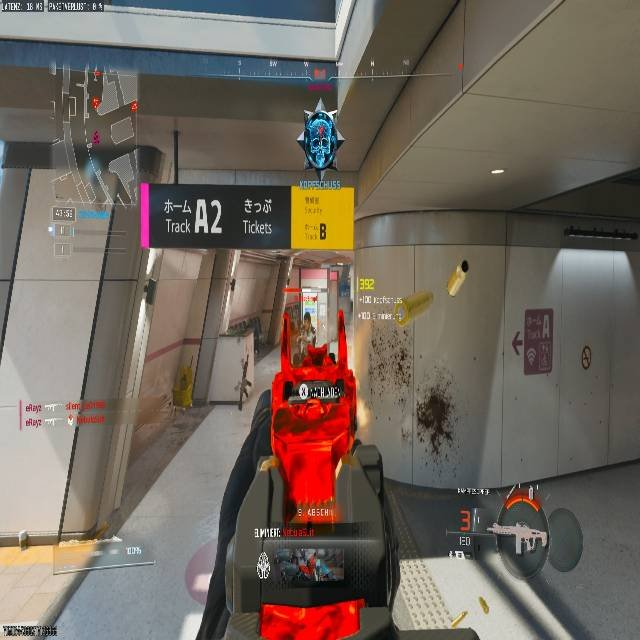player: (297, 97, 344, 181), (418, 388, 453, 458)
